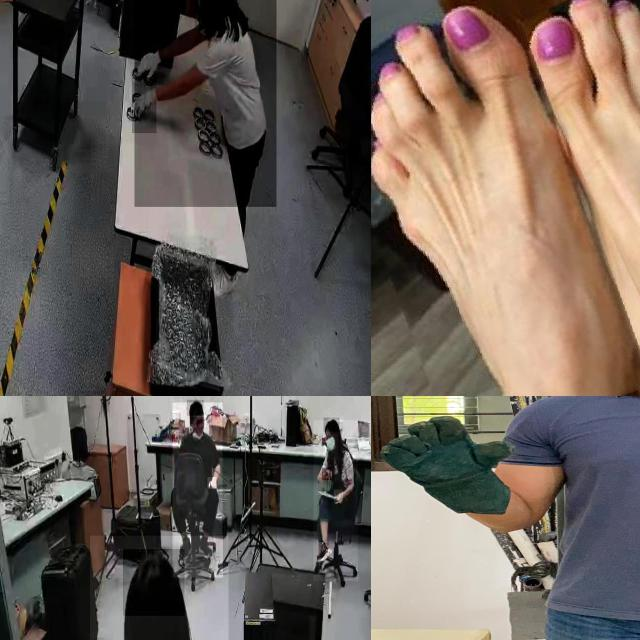Barefoots: (371, 2, 633, 396), (535, 0, 640, 395)
face_mask: (323, 434, 338, 459)
face_nomask: (190, 416, 204, 434)
hand_glove: (372, 412, 522, 492), (135, 34, 164, 85), (132, 77, 157, 134)
hand_noglove: (334, 489, 344, 504), (322, 467, 332, 481), (207, 477, 217, 490)
head_nohelmet: (123, 549, 185, 617), (187, 399, 204, 416), (324, 418, 340, 432)
person: (473, 396, 640, 640), (134, 0, 277, 207), (90, 535, 229, 640), (173, 402, 223, 578), (314, 420, 358, 582)
shoes: (176, 531, 194, 560), (198, 533, 216, 561), (315, 536, 333, 563)
